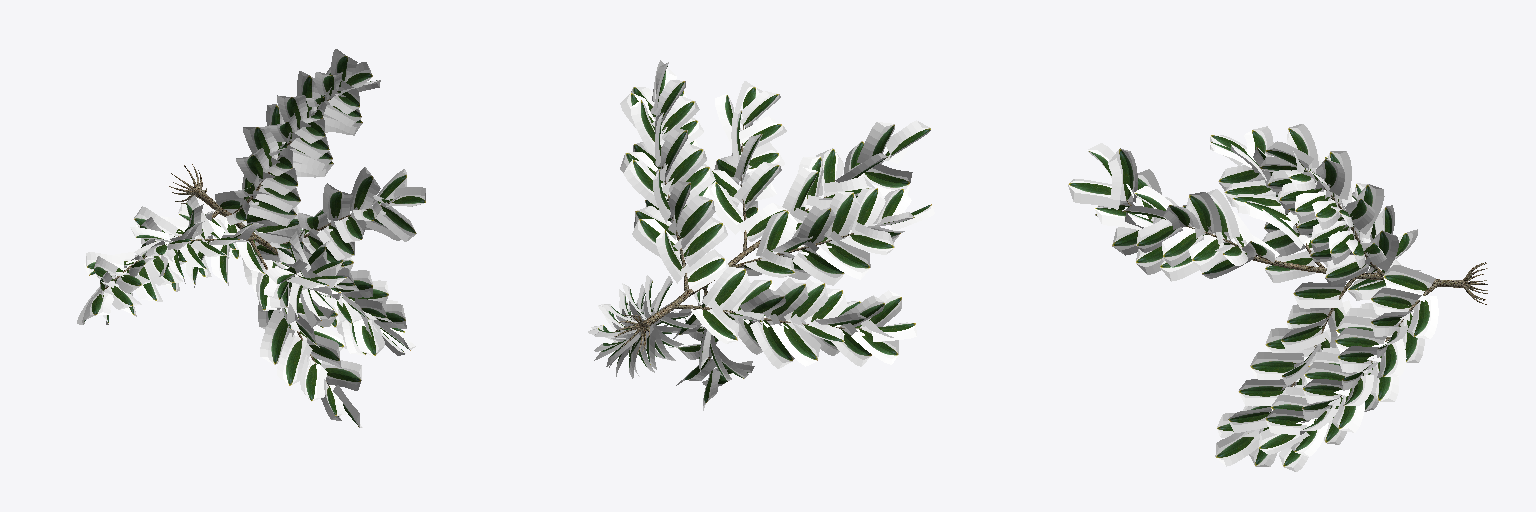
3 views of the same model, side by side, from view 1: azimuth 30°, elevation 25°; view 2: azimuth 150°, elevation 25°; view 3: azimuth 270°, elevation 25° (orthographic).
Visible parts, largest first — view 1: OC41_1; view 2: OC41_1; view 3: OC41_1.
Part boxes in pixels (bbox=[...]): OC41_1: bbox=[77, 49, 425, 427]; OC41_1: bbox=[588, 60, 934, 410]; OC41_1: bbox=[1068, 124, 1487, 471].
Bounding box in the file's own units: 0.3488 × 0.369 × 0.401.
Materials: 4 (2 with a texture image).